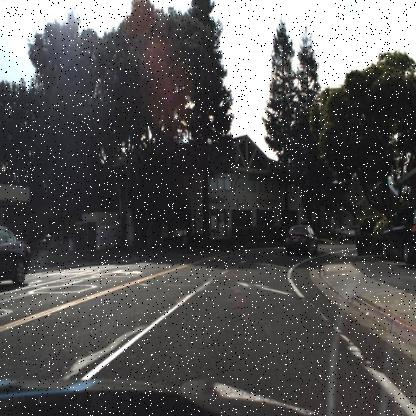car: (378, 204, 416, 266), (0, 224, 32, 289), (283, 218, 320, 258)
